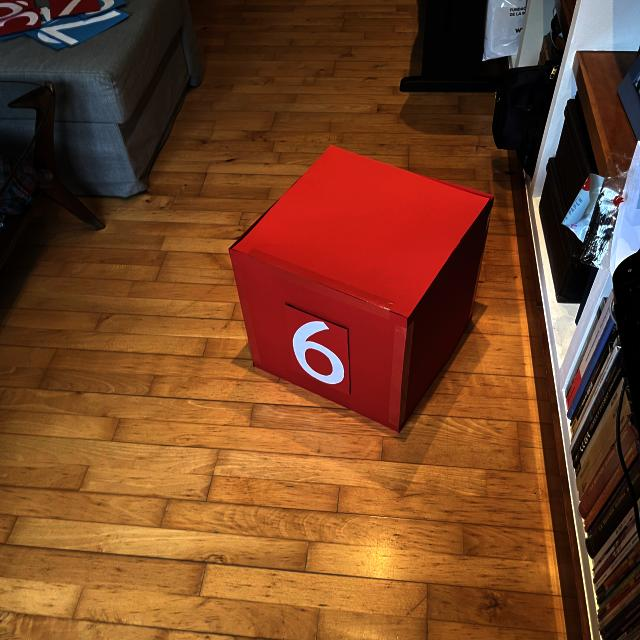box: (227, 142, 495, 434)
